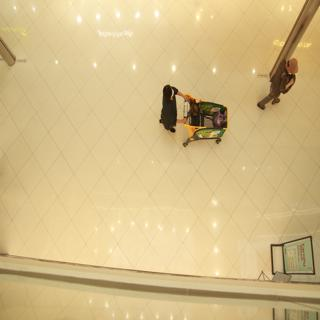person: (154, 72, 193, 151), (263, 53, 305, 116)
